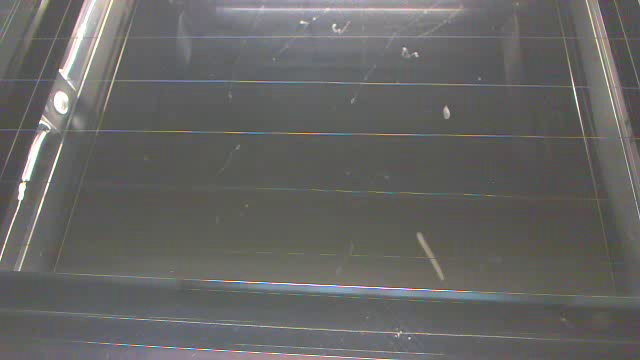alpha: (411, 225, 449, 284), (438, 99, 457, 123)
